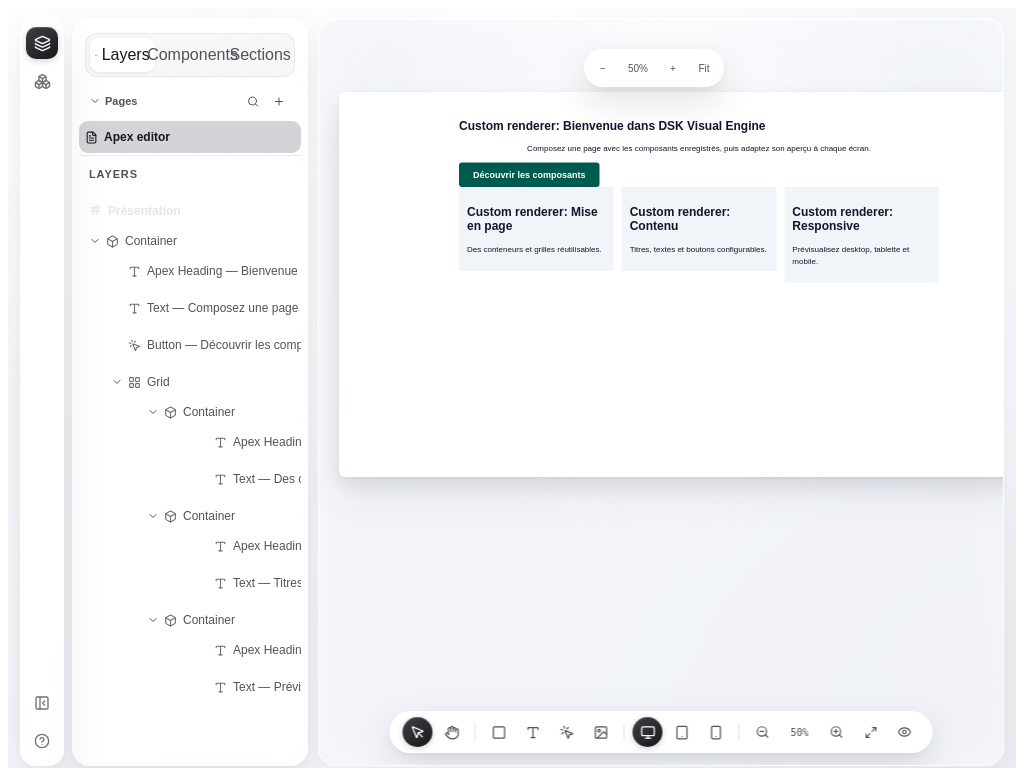
Scenario: editor store context › keeps configuration and state isolated between differently configured instances
The image size is (1024, 768).
Click the button "Components": (190,55) [158,38,222,72]
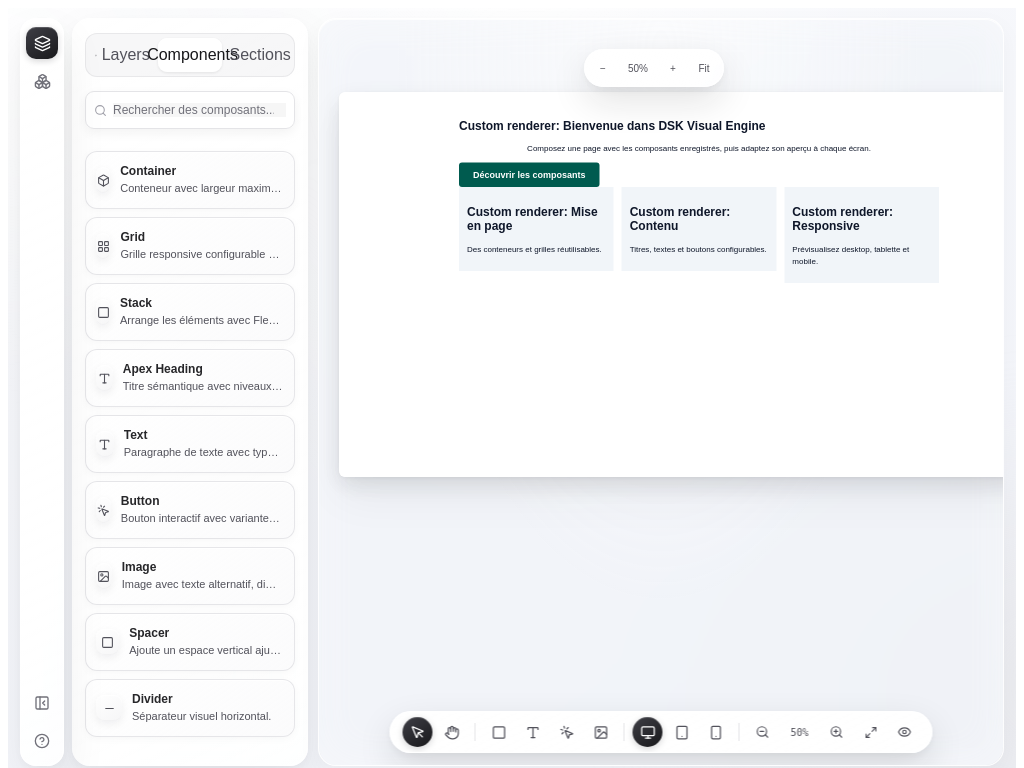
Expected: the button "Apex Heading" is shown, [85,349,295,407]
